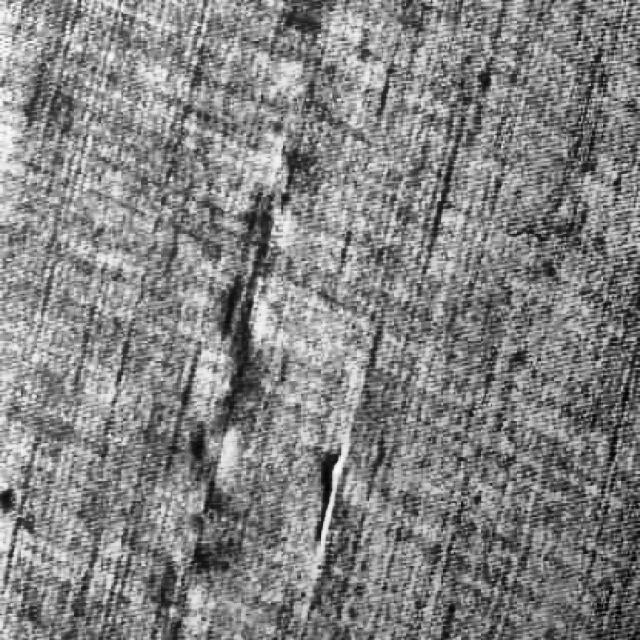thread_error: (298, 432, 364, 570)
